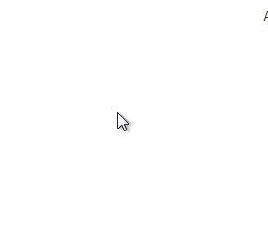cursor: (116, 111, 130, 132)
